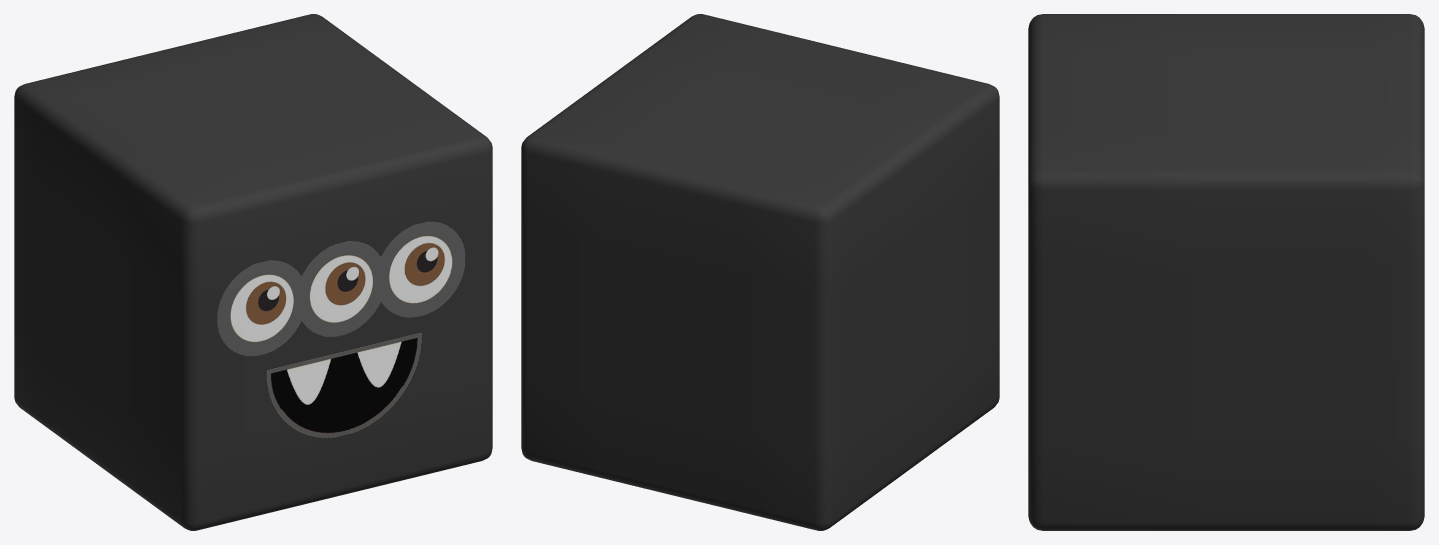
The model's file is moving_cube.FBX.
3 renders of one model, left to right at view 1: azimuth 30°, elevation 25°; view 2: azimuth 150°, elevation 25°; view 3: azimuth 270°, elevation 25°, orthographic. The views are drawn at different scales.
Visible parts, largest first — view 1: Cube_01; view 2: Cube_01; view 3: Cube_01.
Part boxes in pixels (left/top/right/bottom): Cube_01: left=14, top=14, right=492, bottom=530; Cube_01: left=521, top=14, right=999, bottom=530; Cube_01: left=1028, top=14, right=1424, bottom=530.
Size of the model in its own units: 30.33 by 30.33 by 30.33.
Materials: 1 (1 with a texture image).
